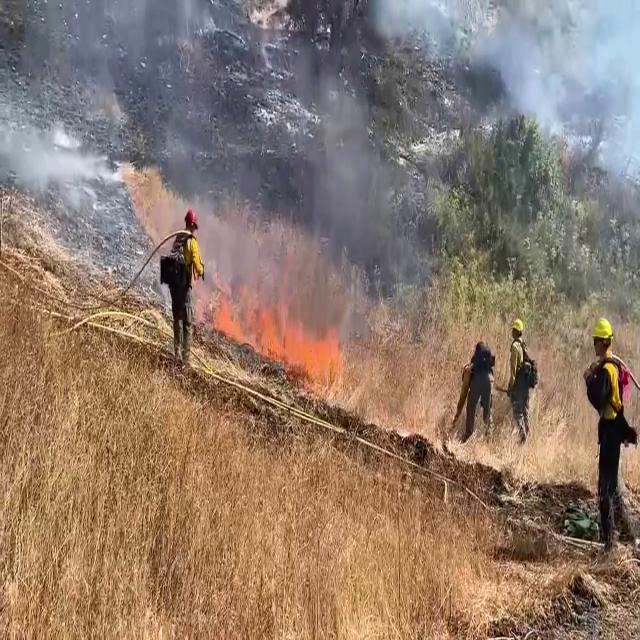Fire: (208, 268, 350, 399)
Smoke: (0, 0, 419, 307), (468, 0, 640, 222)
